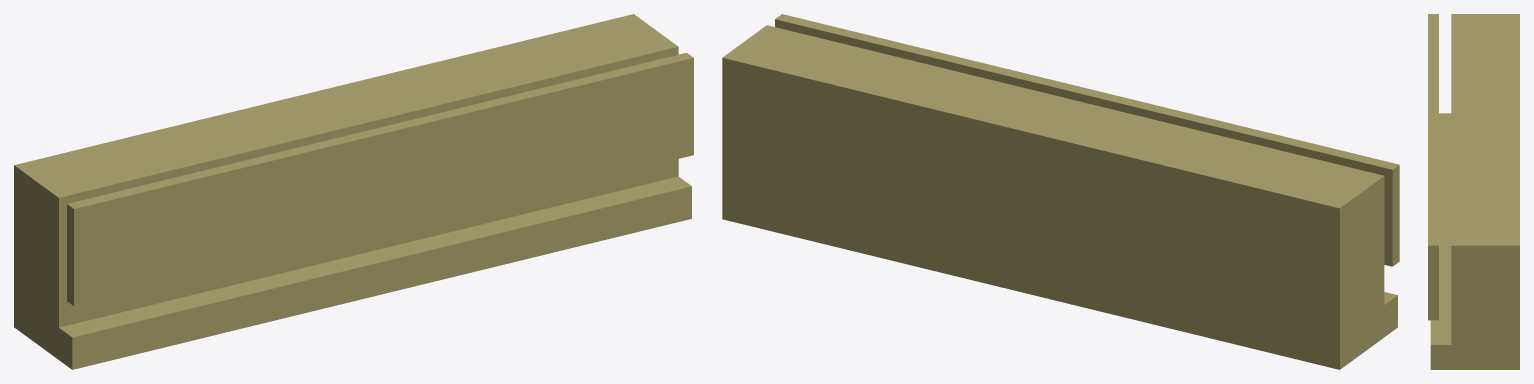
The model's file is Apartments01_trim1.fbx.
The picture shows the model from 3 angles, left to right: view 1: azimuth 30°, elevation 25°; view 2: azimuth 150°, elevation 25°; view 3: azimuth 270°, elevation 25°; orthographic projection. The views are drawn at different scales.
Visible parts, largest first — view 1: Apartments01_trim1; view 2: Apartments01_trim1; view 3: Apartments01_trim1.
Boxes of the visible parts, x1,y1,x2,y2 form: Apartments01_trim1: (14,14,693,369); Apartments01_trim1: (722,14,1399,369); Apartments01_trim1: (1428,14,1519,369).
Bounding box in the file's own units: 400 × 100 × 67.06.
